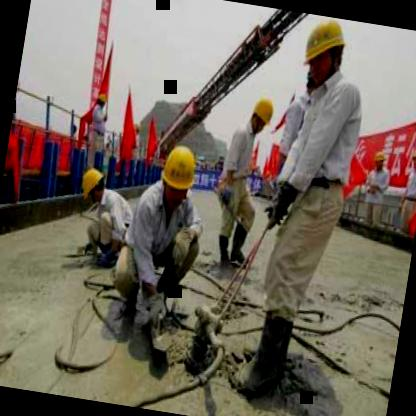helmet: (298, 14, 353, 95), (155, 138, 202, 212), (247, 90, 276, 137), (76, 162, 107, 204), (369, 147, 392, 175), (407, 140, 416, 172), (95, 90, 109, 110)
